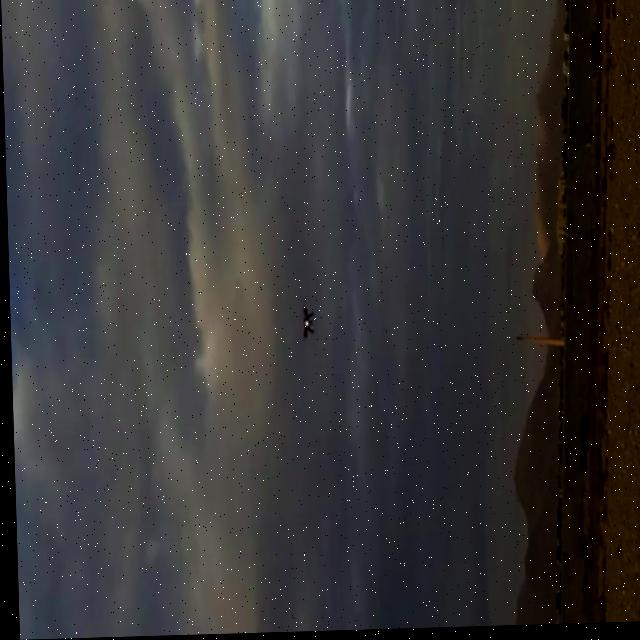drone: (292, 301, 315, 347)
